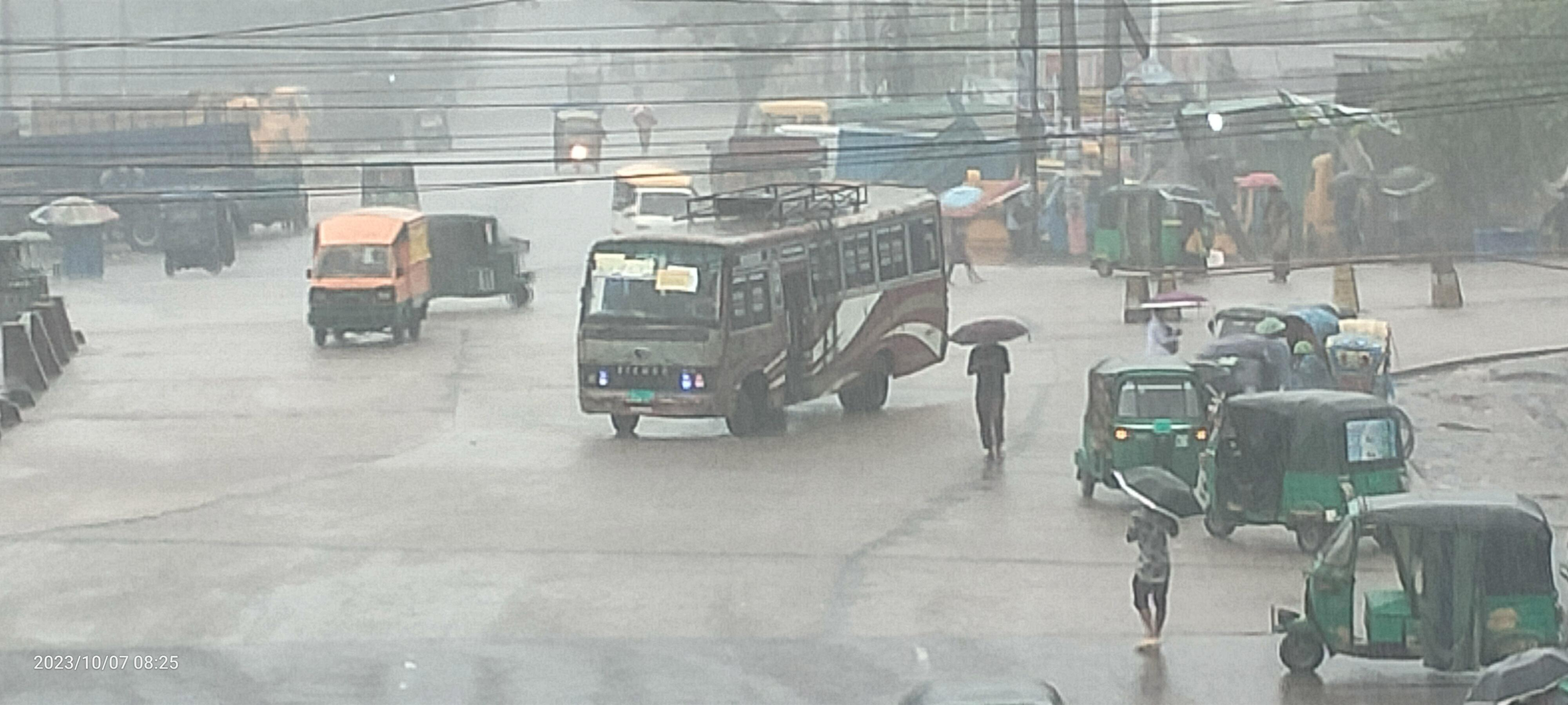Bus: (538, 193, 1018, 457)
Car: (290, 185, 442, 368)
Truck: (0, 66, 315, 179)
